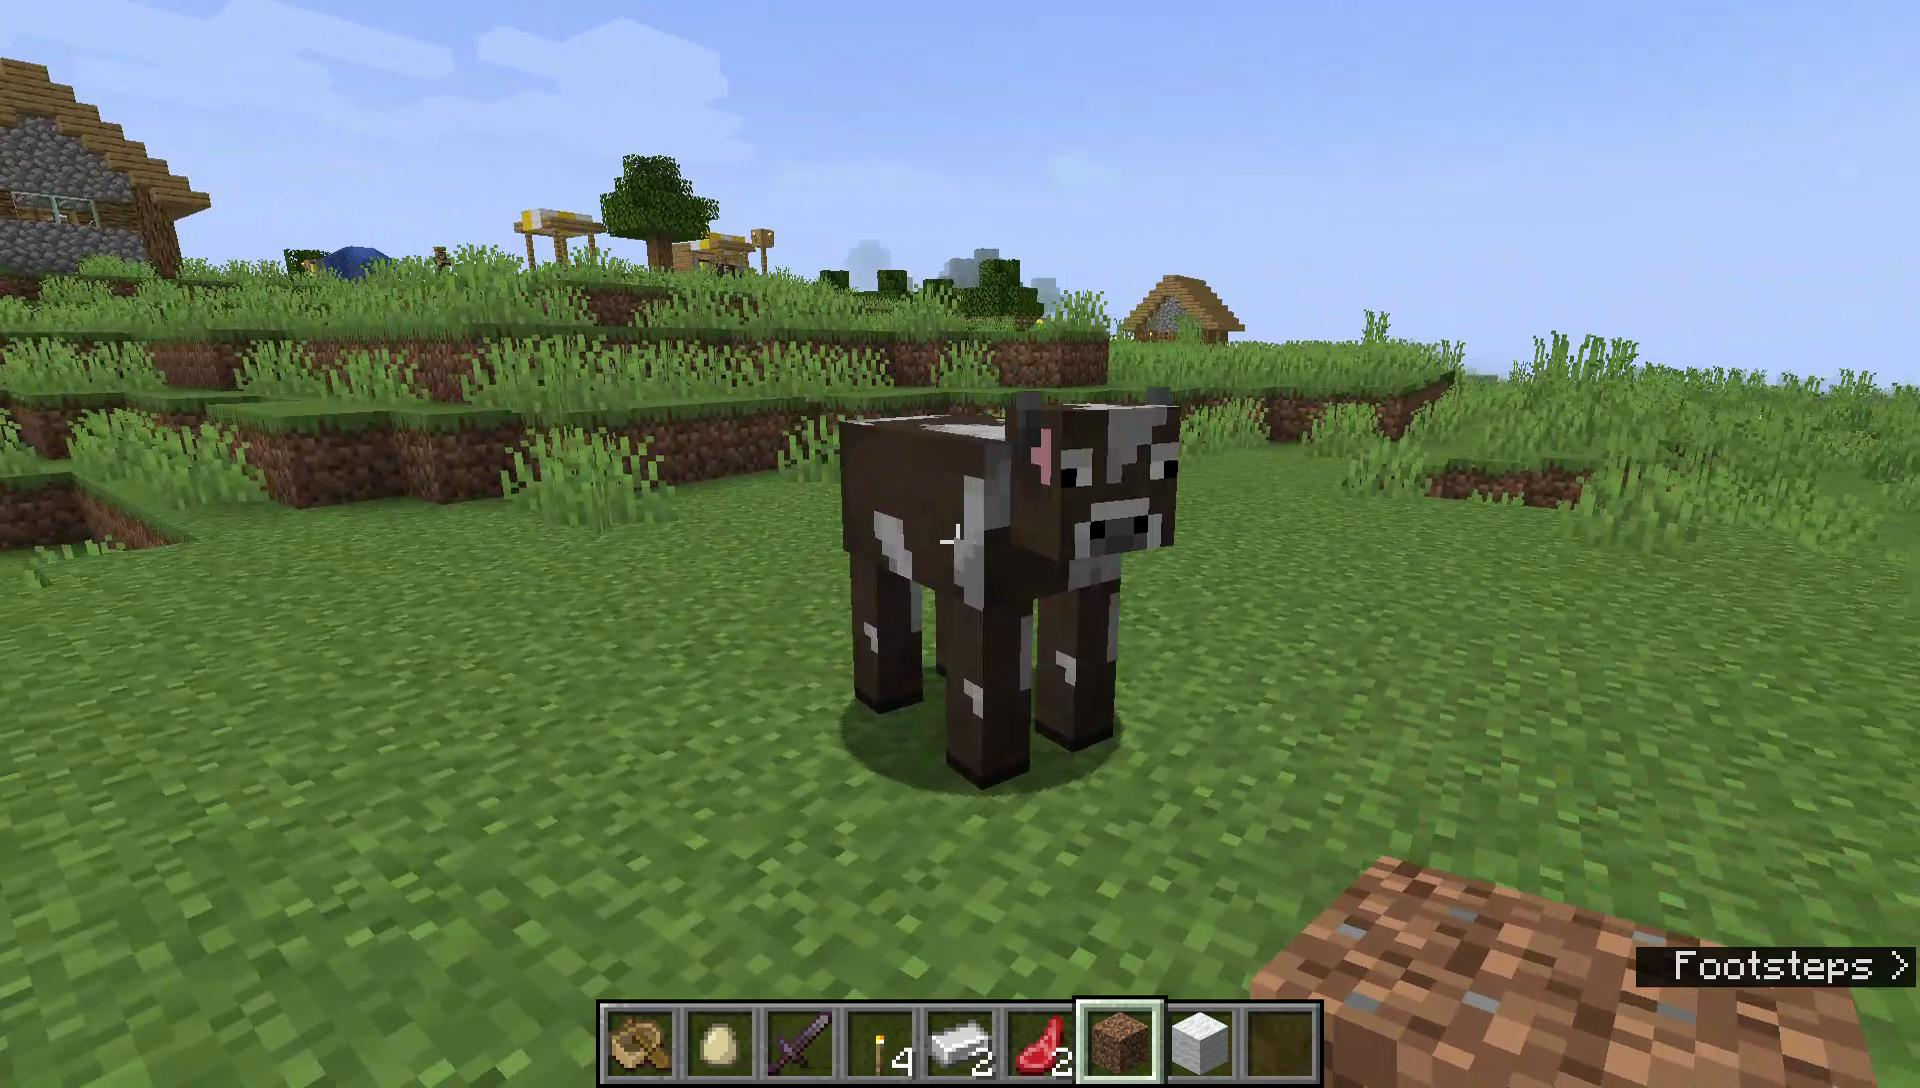cow: (835, 382, 1188, 790), (715, 258, 746, 290)
